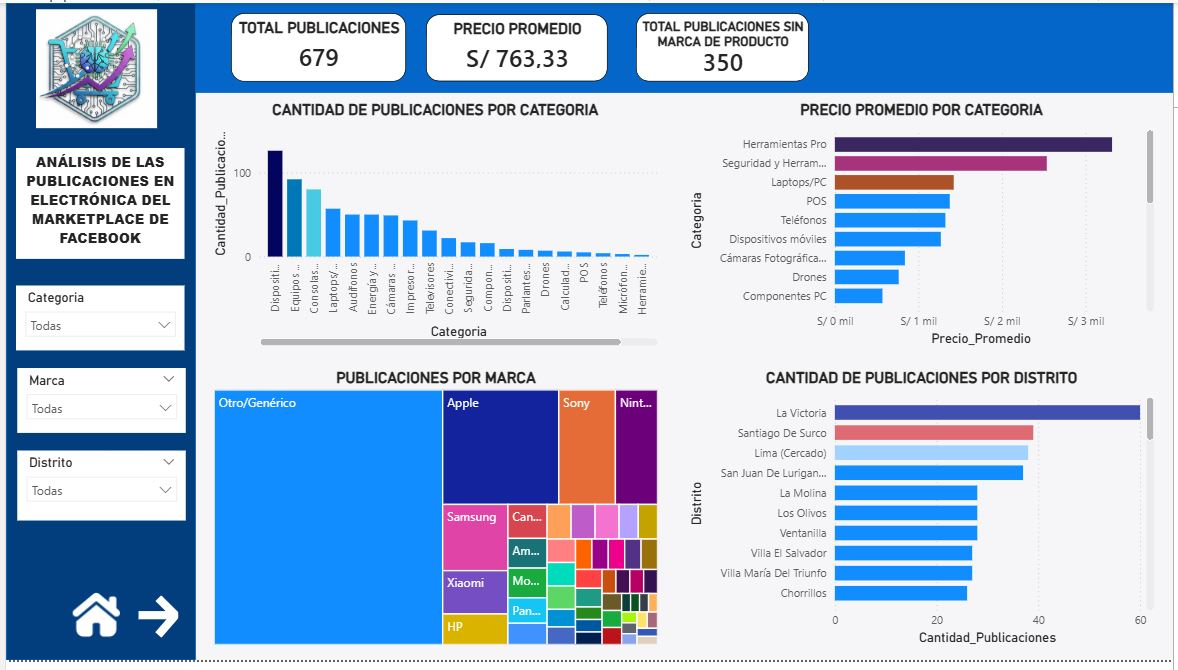

The page's visual inventory and layout, read from the dashboard file:
{"tool":"powerbi","page":{"name":"Analisis_Categoría","canvas":[1280,720],"ordinal":1},"visuals":[{"type":"shape","box":[207,0,1073.3,98.7],"z":0},{"type":"shape","box":[0,0,208.4,721],"z":1000},{"type":"slicer","fields":{"Values":["dataset_mkpfacebook_electronica_v2.Distrito_Limpio"]},"box":[12.3,490.7,185.1,76.8],"z":2000},{"type":"image","box":[32.9,6.9,133,130.2],"z":3000},{"type":"textbox","box":[11,159,185.1,122],"z":4000},{"type":"slicer","fields":{"Values":["dataset_mkpfacebook_electronica_v2.Marca"]},"box":[12.3,400.3,185.1,71.3],"z":5000},{"type":"slicer","fields":{"Values":["dataset_mkpfacebook_electronica_v2.Categoria"]},"box":[11,309.8,185,71.3],"z":6000},{"type":"cardVisual","title":"PRECIO PROMEDIO","fields":{"Data":["Avg(dataset_mkpfacebook_electronica_v2.Precio_Num)"]},"box":[460.9,12.1,199.1,73.6],"z":7000},{"type":"barChart","title":"PRECIO PROMEDIO POR CATEGORIA","fields":{"Category":["dataset_mkpfacebook_electronica_v2.Categoria"],"Y":["Avg(dataset_mkpfacebook_electronica_v2.Precio_Num)"]},"box":[744.3,106.9,519.5,274.1],"z":8000},{"type":"barChart","title":"CANTIDAD DE PUBLICACIONES POR DISTRITO","fields":{"Y":["CountNonNull(dataset_mkpfacebook_electronica_v2.Titulo_Limpio)"],"Category":["dataset_mkpfacebook_electronica_v2.Distrito_Limpio"]},"box":[744.3,400.3,519.5,308.4],"z":9000},{"type":"columnChart","title":"CANTIDAD DE PUBLICACIONES POR CATEGORIA","fields":{"Category":["dataset_mkpfacebook_electronica_v2.Categoria"],"Y":["CountNonNull(dataset_mkpfacebook_electronica_v2.Titulo_Limpio)"]},"box":[222.1,106.9,497.6,274.1],"z":10000},{"type":"treemap","title":"PUBLICACIONES POR MARCA","fields":{"Group":["dataset_mkpfacebook_electronica_v2.Marca"],"Values":["CountNonNull(dataset_mkpfacebook_electronica_v2.Titulo_Limpio)"]},"box":[223.4,400.3,496.2,308.4],"z":11000},{"type":"cardVisual","title":"TOTAL PUBLICACIONES","fields":{"Data":["CountNonNull(dataset_mkpfacebook_electronica_v2.Titulo_Limpio)"]},"box":[246.7,11,191.9,75.4],"z":12000},{"type":"image","box":[62.7,635.8,72.4,73.6],"z":13000},{"type":"actionButton","box":[138.7,645.4,56.7,54.3],"z":14000},{"type":"cardVisual","title":"TOTAL PUBLICACIONES SIN MARCA DE PRODUCTO","fields":{"Data":["CountNonNull(dataset_mkpfacebook_electronica_v2.Titulo_Limpio)"]},"box":[690.2,11,189.4,75.5],"z":14001}]}

Visuals, with their boxes in screenshot pixels (x1, y1, x2, y2), scaled from the page's 1280x720 canvas onto the 1178x670 screenshot:
shape: bbox=(191, 0, 1177, 92)
shape: bbox=(0, 0, 192, 669)
slicer - dataset_mkpfacebook_electronica_v2.Distrito_Limpio: bbox=(11, 457, 182, 528)
image: bbox=(30, 6, 153, 128)
textbox: bbox=(10, 148, 180, 261)
slicer - dataset_mkpfacebook_electronica_v2.Marca: bbox=(11, 373, 182, 439)
slicer - dataset_mkpfacebook_electronica_v2.Categoria: bbox=(10, 288, 180, 355)
"PRECIO PROMEDIO" cardVisual: bbox=(424, 11, 607, 80)
"PRECIO PROMEDIO POR CATEGORIA" barChart: bbox=(685, 99, 1163, 355)
"CANTIDAD DE PUBLICACIONES POR DISTRITO" barChart: bbox=(685, 373, 1163, 659)
"CANTIDAD DE PUBLICACIONES POR CATEGORIA" columnChart: bbox=(204, 99, 662, 355)
"PUBLICACIONES POR MARCA" treemap: bbox=(206, 373, 662, 659)
"TOTAL PUBLICACIONES" cardVisual: bbox=(227, 10, 404, 80)
image: bbox=(58, 592, 124, 660)
actionButton: bbox=(128, 601, 180, 651)
"TOTAL PUBLICACIONES SIN MARCA DE PRODUCTO" cardVisual: bbox=(635, 10, 810, 80)
